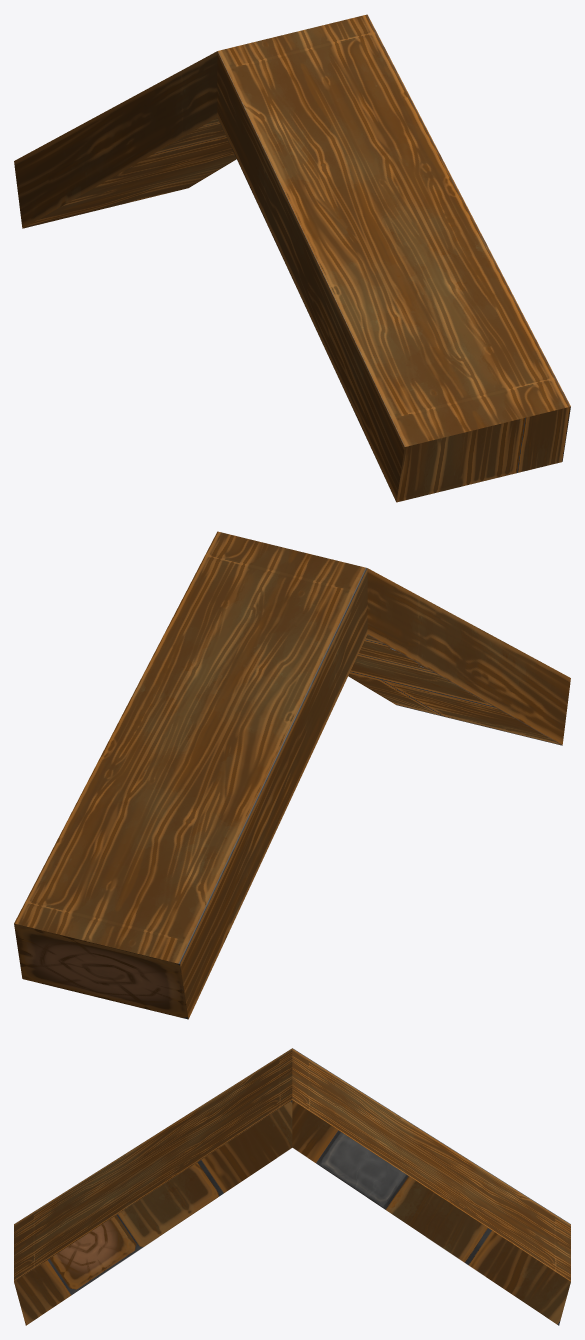
3 views of the same model, one above another, from view 1: azimuth 30°, elevation 25°; view 2: azimuth 150°, elevation 25°; view 3: azimuth 270°, elevation 25° (orthographic). The views are drawn at different scales.
Parts seen in each view (by area): view 1: Cube.2097; view 2: Cube.2097; view 3: Cube.2097.
Part boxes in pixels (box(x1,y1,x2,y2)): Cube.2097: box(14, 14, 570, 502); Cube.2097: box(14, 531, 570, 1019); Cube.2097: box(14, 1048, 570, 1325).
Size of the model in its own units: 107 by 192 by 434.
1 material, 1 textured.
